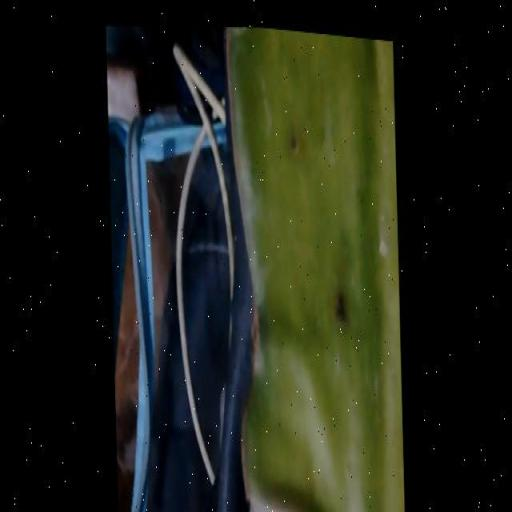stemcanker: (277, 82, 313, 204)
